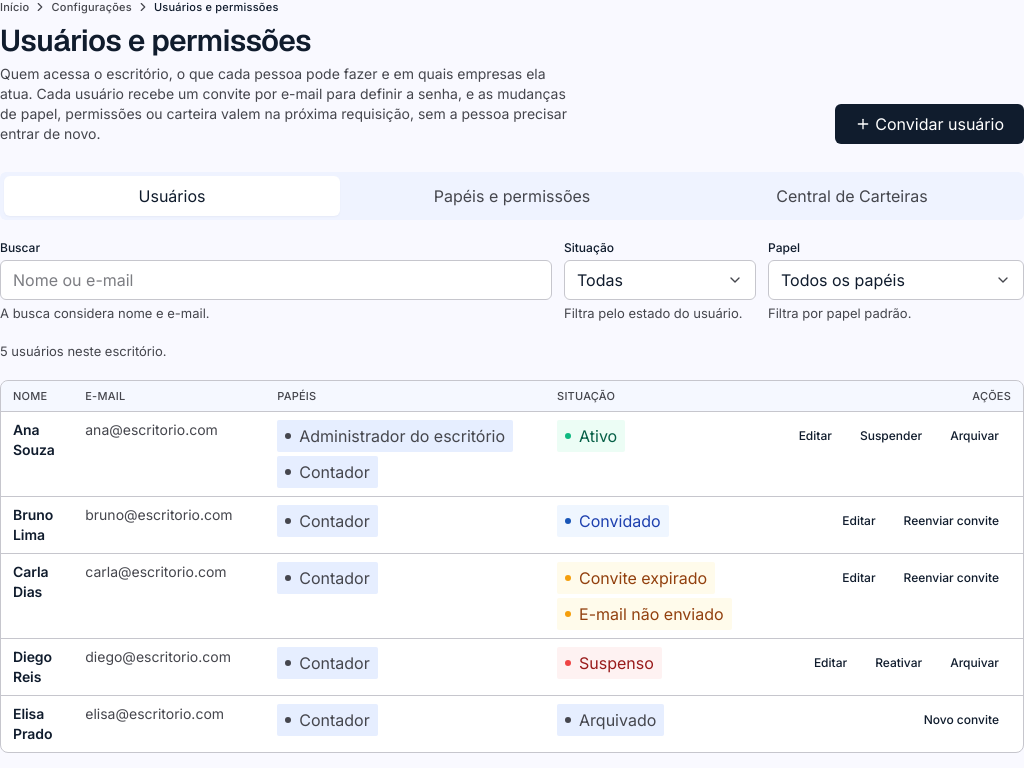
Scenario: ações de ciclo de vida › arquivar também confirma, nomeando o usuário e explicando que o histórico fica
Expected: the table is shown, [1, 381, 1023, 752]
Click the button with aria-label "Arquivar — Diego Reis" at (975, 663), box [938, 647, 1011, 679]
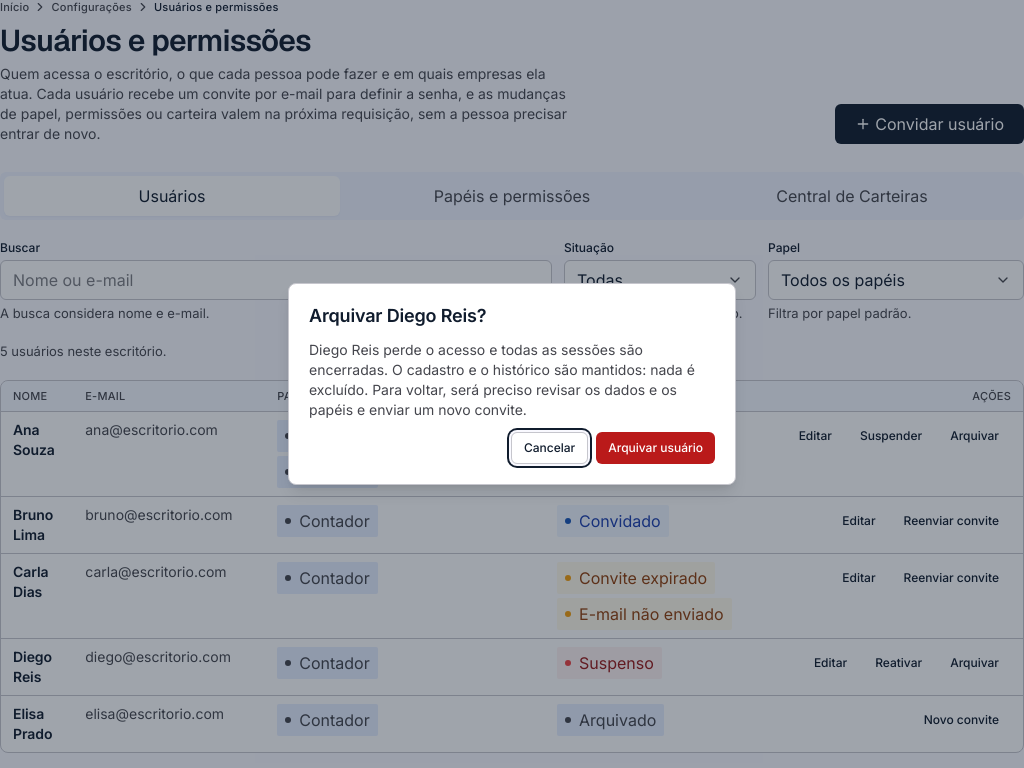
Expected: the dialog shows "Arquivar Diego Reis?", [309, 305, 486, 326]
Expected: the dialog shows "histórico", [309, 341, 695, 418]
